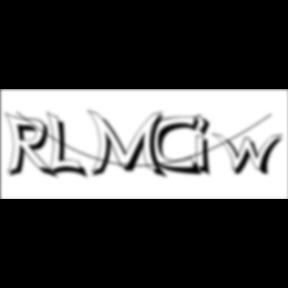C: (150, 115, 206, 178)
L: (47, 110, 91, 182)
M: (86, 108, 170, 181)
R: (4, 112, 62, 182)
i: (194, 112, 218, 180)
w: (212, 132, 288, 178)
